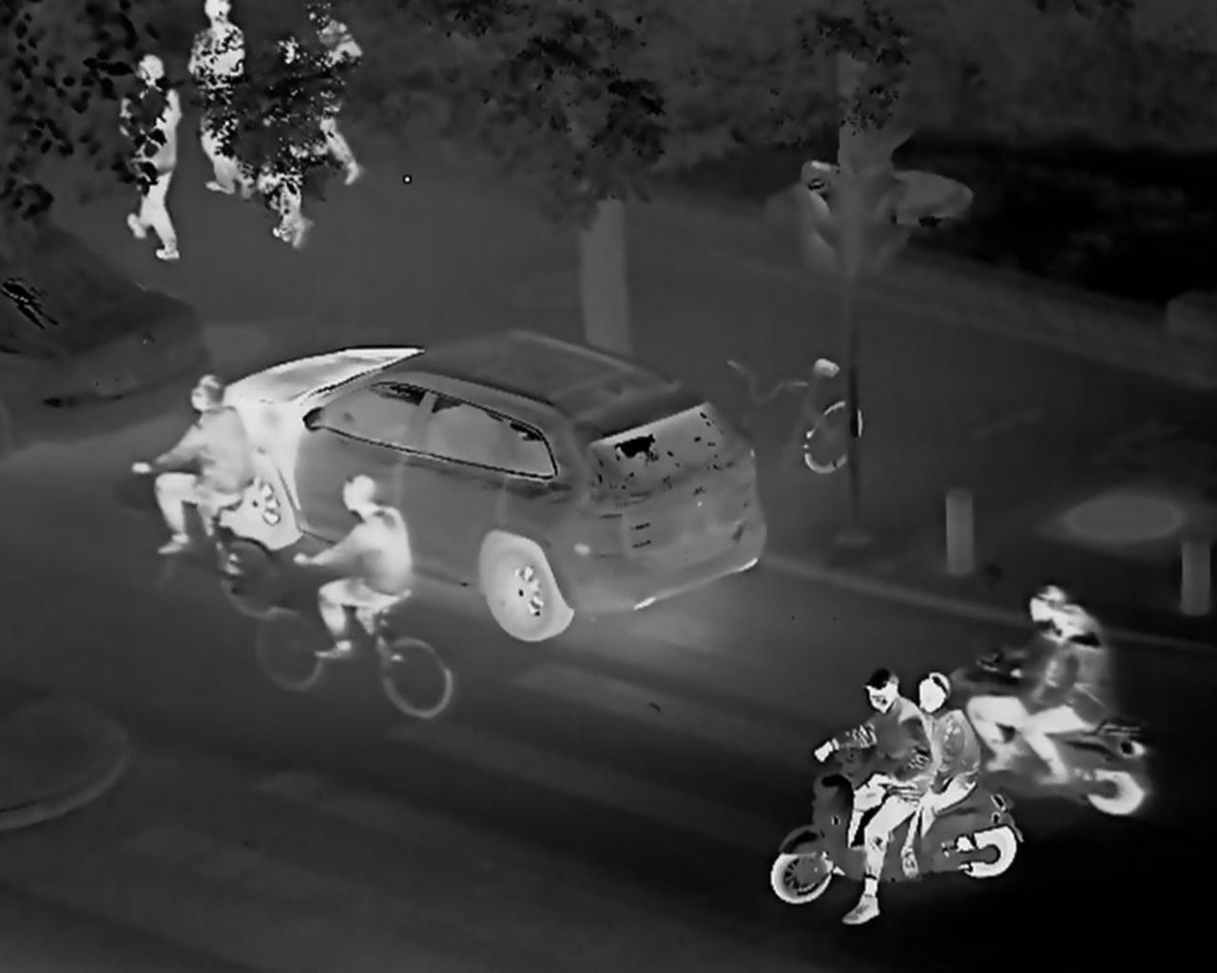person: (809, 668, 929, 930), (132, 372, 255, 583), (291, 472, 414, 671), (977, 587, 1073, 780), (893, 674, 976, 883), (1022, 604, 1113, 783), (117, 51, 183, 259), (260, 35, 312, 248)
